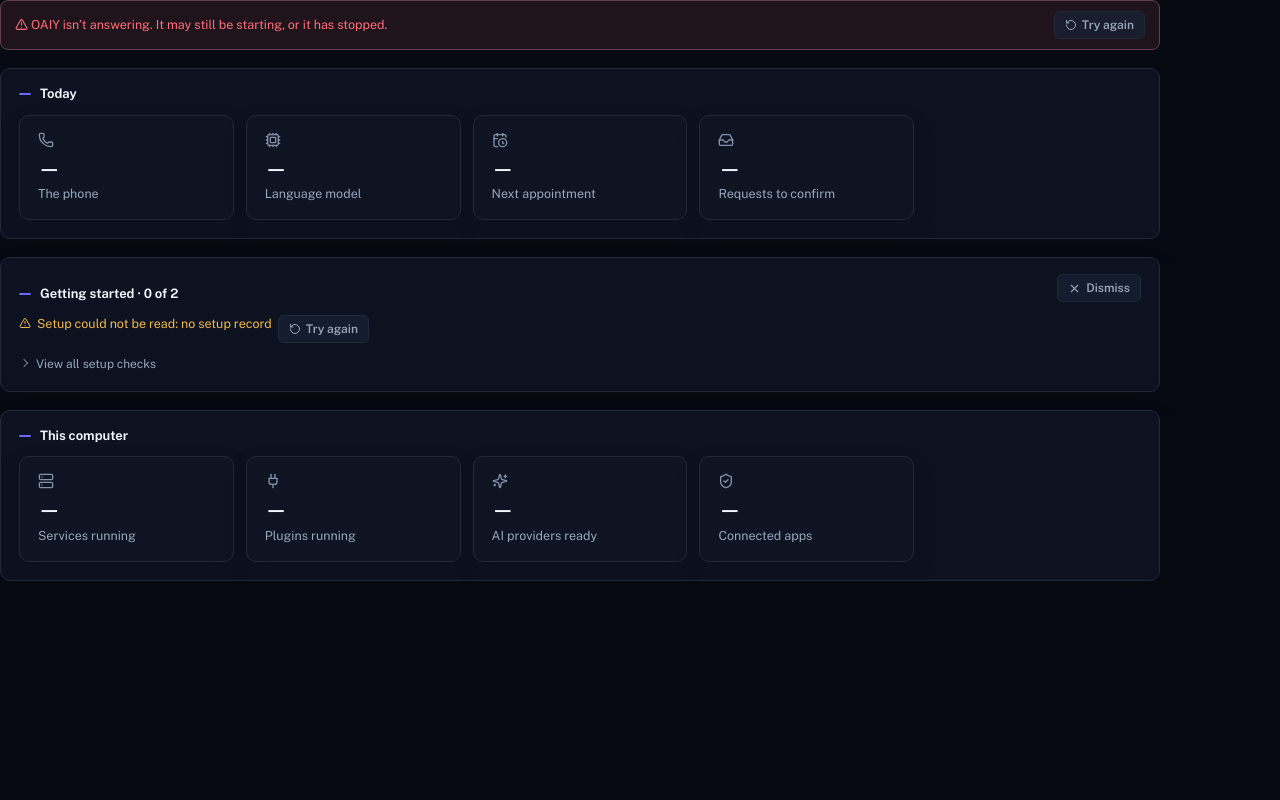
Scenario: OverviewPanel failure reporting › says only that OAIY is not answering where no read got an answer, with a way to ask again
The width and height of the screenshot is (1280, 800).
expect the message with class "load-error" shows "OAIY isn’t answering. It may still be starting, or it has stopped.": met, box x1=31 y1=17 x2=387 y2=32
Click the 1st button "Try again": {"x": 1099, "y": 25} x1=1054 y1=11 x2=1145 y2=39
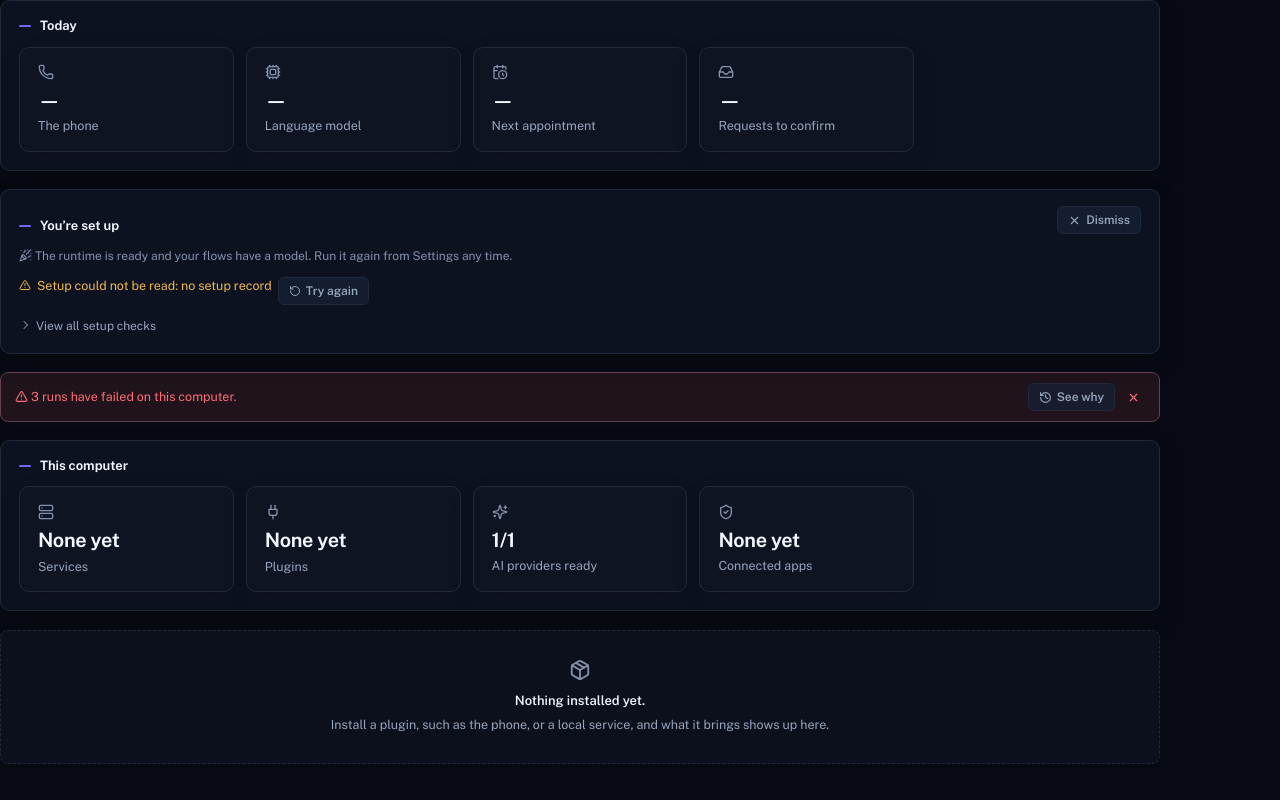
expect the message with class "load-error" is gone: met
